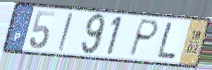1: (105, 15, 125, 57)
5: (28, 9, 57, 51)
9: (80, 12, 108, 57)
I: (56, 11, 75, 53)
L: (156, 21, 179, 61)
P: (127, 18, 161, 58)
